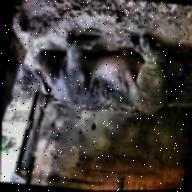boar: (26, 26, 184, 124)
